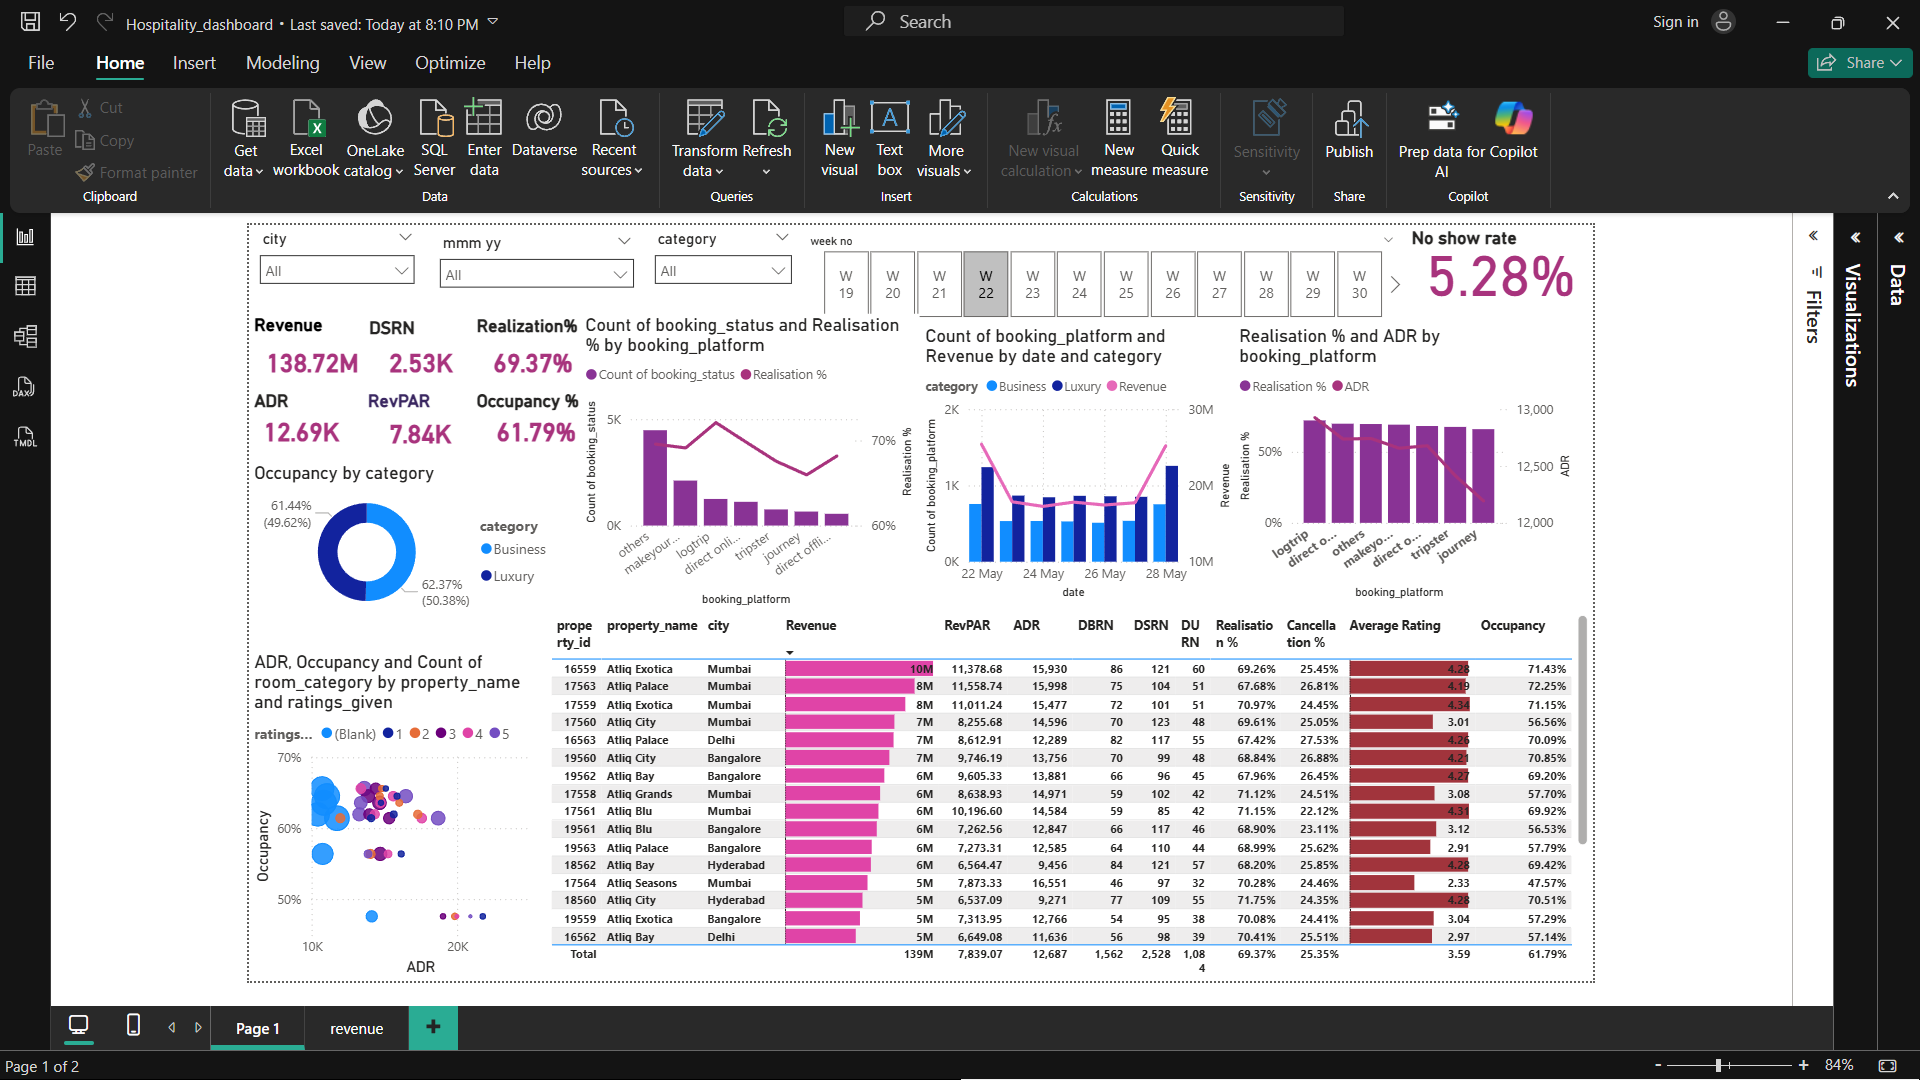

The page's visual inventory and layout, read from the dashboard file:
{"tool":"powerbi","page":{"name":"Page 1","canvas":[1280,720],"ordinal":0},"visuals":[{"type":"tableEx","fields":{"Values":["dim_hotels.property_id","dim_hotels.property_name","dim_hotels.city","key_measures.Revenue","key_measures.RevPAR","key_measures.ADR","key_measures.DBRN","key_measures.DSRN","key_measures.DURN","key_measures.Realisation %","key_measures.Cancellation %","key_measures.Average Rating"]},"box":[282.7,366.7,997.5,353.1],"z":0},{"type":"slicer","fields":{"Values":["dim_hotels.city"]},"box":[0,0,167.9,80.2],"z":1000},{"type":"slicer","fields":{"Values":["dim_date.mmm yy.Variation.Date Hierarchy.Year"]},"box":[171.6,3.7,204.9,75.3],"z":2000},{"type":"slicer","fields":{"Values":["dim_date.week no"]},"box":[521,3.7,581.5,91.4],"z":3000},{"type":"slicer","fields":{"Values":["dim_hotels.category"]},"box":[376.5,0,150.6,84],"z":4000},{"type":"card","title":"Revenue","fields":{"Values":["key_measures.Revenue"]},"box":[0,84,121,72.8],"z":5000},{"type":"donutChart","fields":{"Category":["dim_hotels.category"],"Y":["key_measures.Occupancy"]},"box":[0,225.9,298.8,151.9],"z":6000},{"type":"card","title":"RevPAR","fields":{"Values":["key_measures.RevPAR"]},"box":[108.6,156.8,109.9,63],"z":7000},{"type":"card","title":"DSRN","fields":{"Values":["key_measures.DSRN"]},"box":[109.9,87.7,108.6,65.4],"z":8000},{"type":"card","title":"ADR","fields":{"Values":["key_measures.ADR"]},"box":[0,156.8,100,59.3],"z":9000},{"type":"card","title":"Realization%","fields":{"Values":["key_measures.Realisation %"]},"box":[212.3,85.2,117.3,70.4],"z":10000},{"type":"card","title":"Occupancy %","fields":{"Values":["key_measures.Occupancy"]},"box":[212.3,156.8,123.5,59.3],"z":11000},{"type":"lineClusteredColumnComboChart","fields":{"Y":["CountNonNull(fact_bookings.booking_platform)"],"Series":["dim_hotels.category"],"Category":["dim_date.date"],"Y2":["key_measures.Revenue"]},"box":[639.5,95.1,302.5,265.4],"z":12000},{"type":"card","title":"No show rate","fields":{"Values":["key_measures.No Show rate %"]},"box":[1102.5,2.5,177.8,81.5],"z":13000},{"type":"lineStackedColumnComboChart","fields":{"Category":["fact_bookings.booking_platform"],"Y":["CountNonNull(fact_bookings.booking_status)"],"Y2":["key_measures.Realisation %"]},"box":[316,84,323.5,282.7],"z":13001},{"type":"lineClusteredColumnComboChart","fields":{"Y":["key_measures.Realisation %"],"Y2":["key_measures.ADR"],"Category":["fact_bookings.booking_platform"]},"box":[938.3,95.1,327.2,265.4],"z":13002},{"type":"scatterChart","fields":{"X":["key_measures.ADR"],"Y":["key_measures.Occupancy"],"Category":["dim_hotels.property_name"],"Series":["fact_bookings.ratings_given"],"Size":["CountNonNull(fact_bookings.room_category)"]},"box":[0,406.2,282.7,313.6],"z":13003}]}

Visuals, with their boxes on the page's 1280x720 design canvas (x1, y1, x2, y2). These are canvas units, not pixel positions in the 1920x1080 screenshot, which may show the page scaled, cropped or inside an application window:
tableEx - dim_hotels.property_id x dim_hotels.property_name: <bbox>283, 367, 1280, 720</bbox>
slicer - dim_hotels.city: <bbox>0, 0, 168, 80</bbox>
slicer - dim_date.mmm yy.Variation.Date Hierarchy.Year: <bbox>172, 4, 376, 79</bbox>
slicer - dim_date.week no: <bbox>521, 4, 1102, 95</bbox>
slicer - dim_hotels.category: <bbox>376, 0, 527, 84</bbox>
"Revenue" card: <bbox>0, 84, 121, 157</bbox>
donutChart - dim_hotels.category x key_measures.Occupancy: <bbox>0, 226, 299, 378</bbox>
"RevPAR" card: <bbox>109, 157, 218, 220</bbox>
"DSRN" card: <bbox>110, 88, 218, 153</bbox>
"ADR" card: <bbox>0, 157, 100, 216</bbox>
"Realization%" card: <bbox>212, 85, 330, 156</bbox>
"Occupancy %" card: <bbox>212, 157, 336, 216</bbox>
lineClusteredColumnComboChart - CountNonNull(fact_bookings.booking_platform) x dim_hotels.category: <bbox>640, 95, 942, 360</bbox>
"No show rate" card: <bbox>1102, 2, 1280, 84</bbox>
lineStackedColumnComboChart - fact_bookings.booking_platform x CountNonNull(fact_bookings.booking_status): <bbox>316, 84, 640, 367</bbox>
lineClusteredColumnComboChart - key_measures.Realisation % x key_measures.ADR: <bbox>938, 95, 1266, 360</bbox>
scatterChart - key_measures.ADR x key_measures.Occupancy: <bbox>0, 406, 283, 720</bbox>
